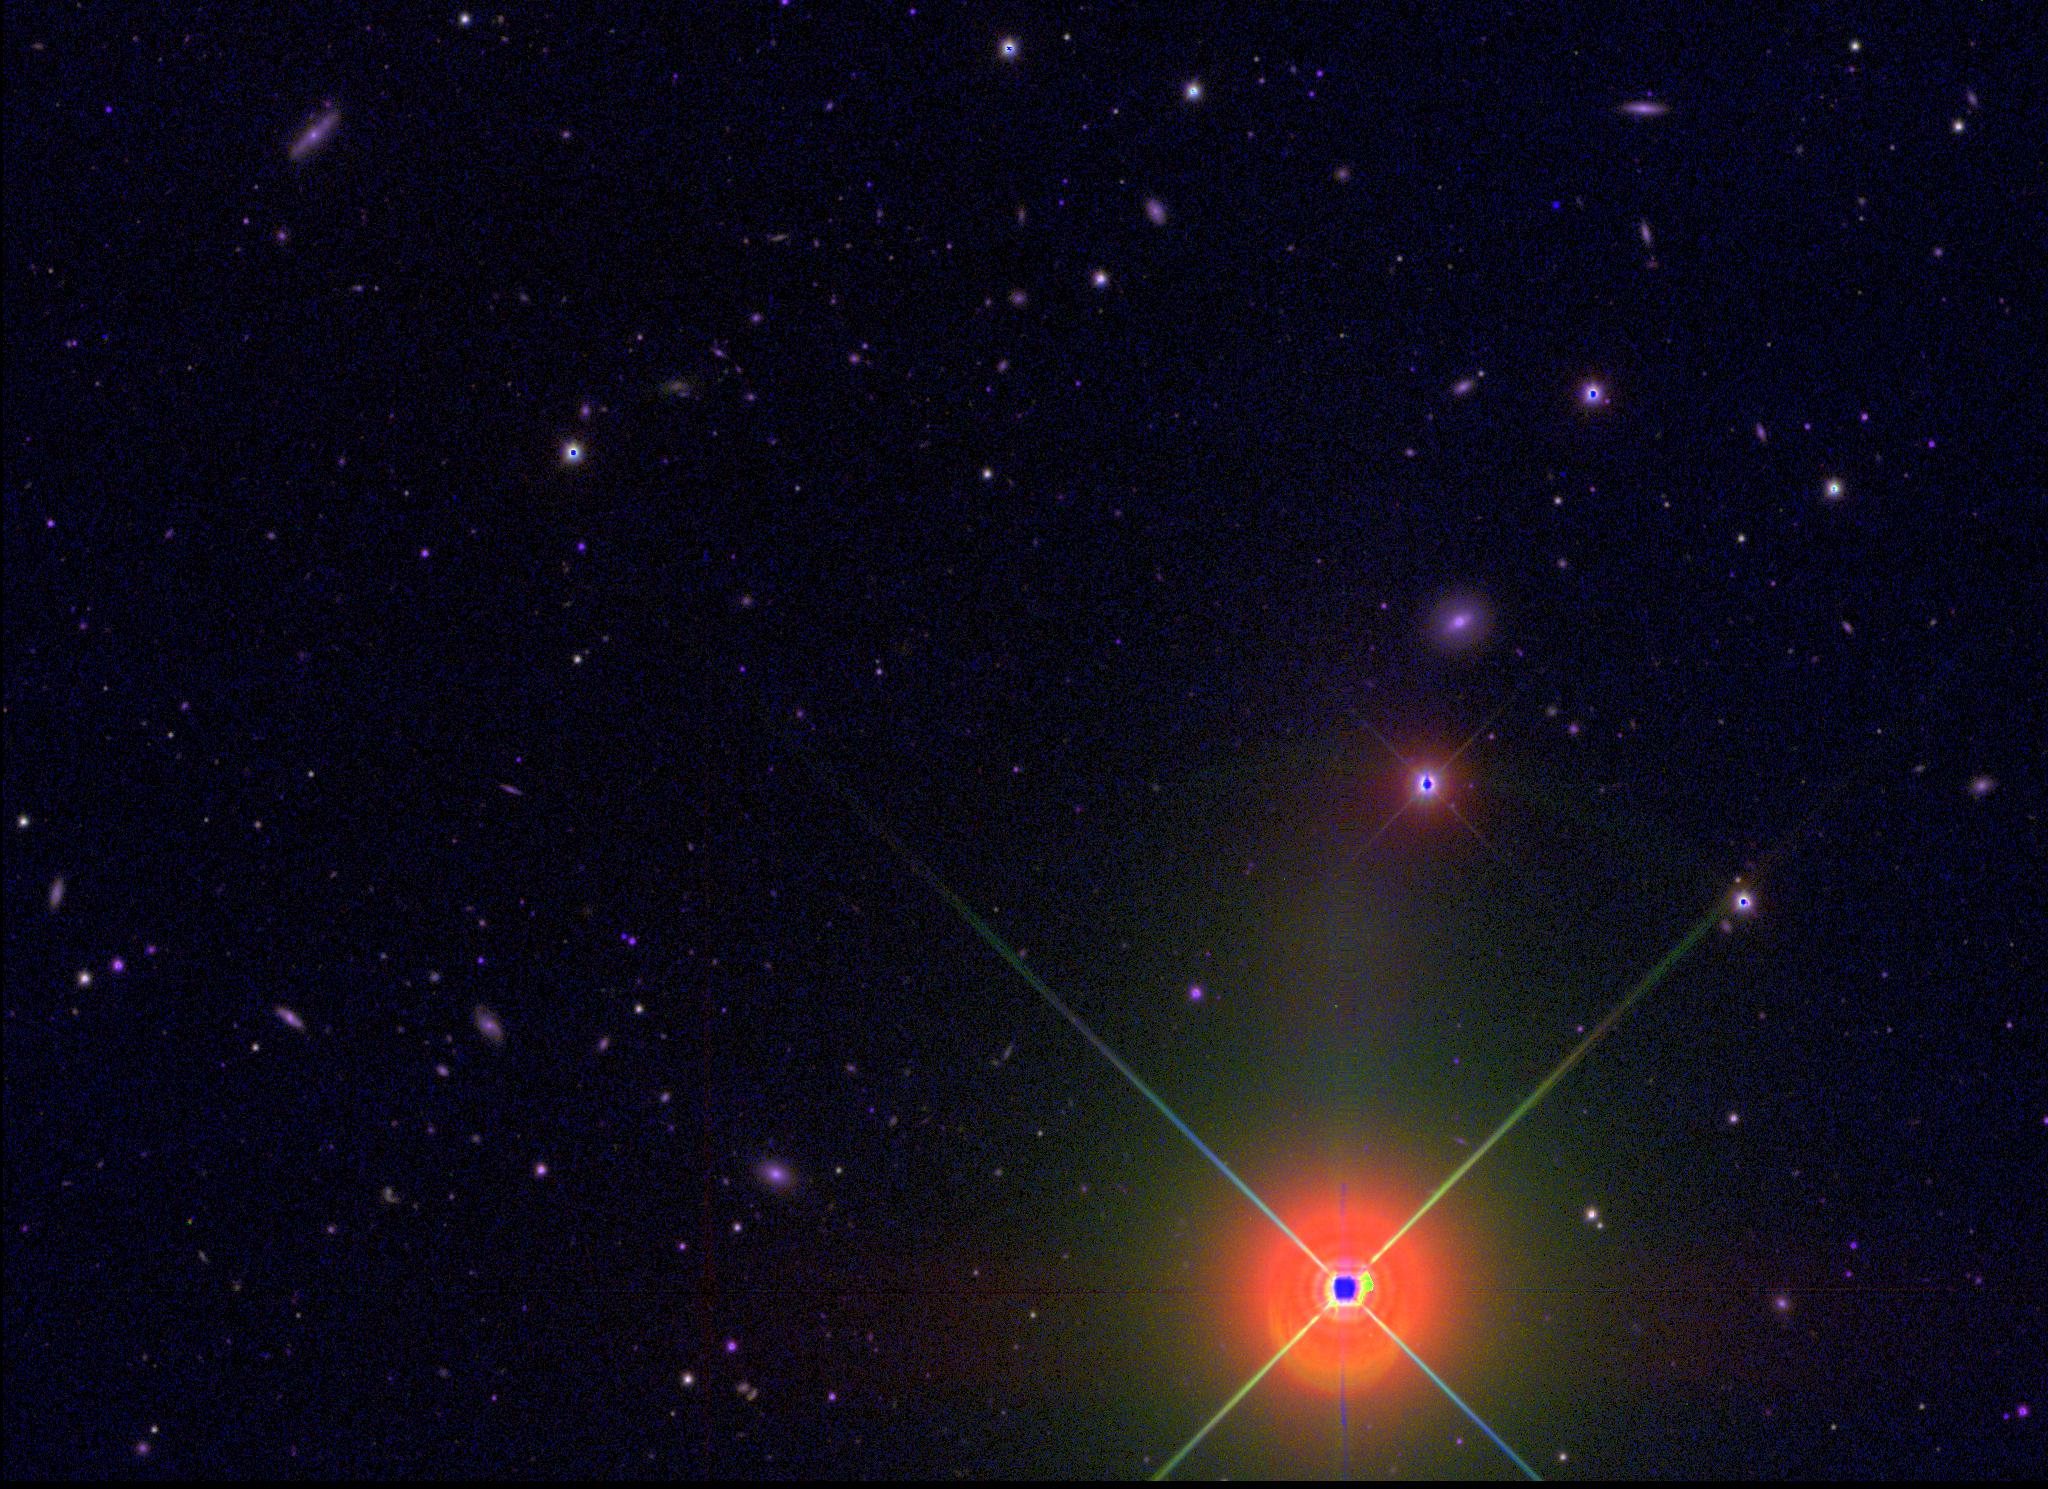L: (1549, 197, 1563, 212)
